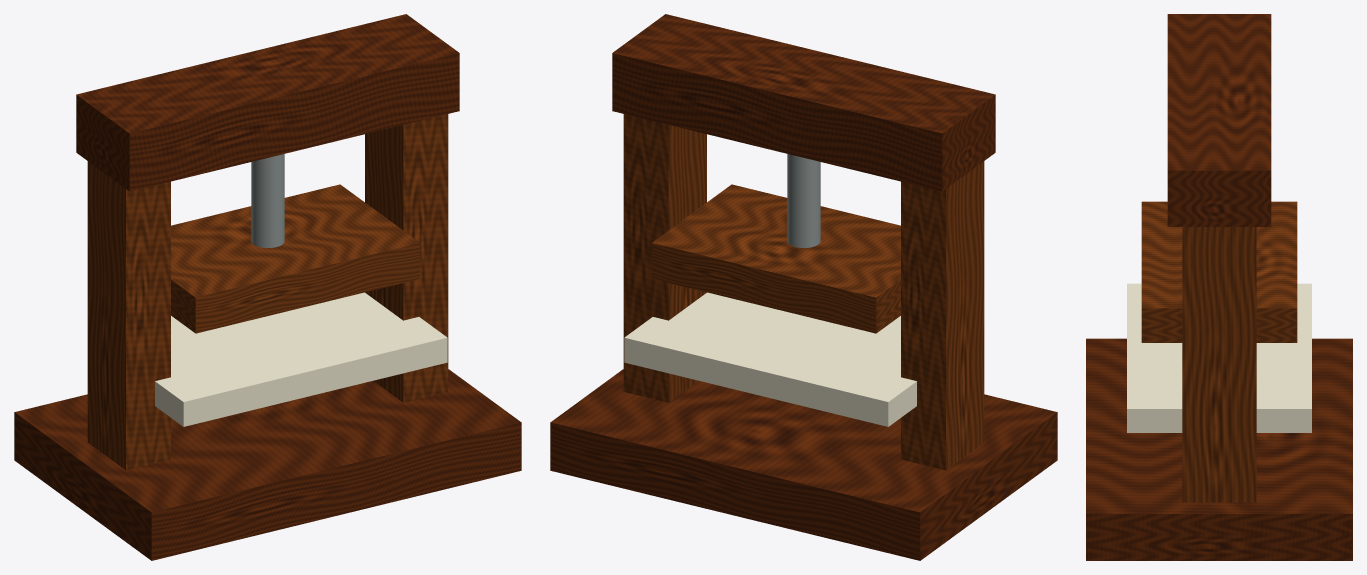
File: press.glb
3 views of the same model, side by side, from view 1: azimuth 30°, elevation 25°; view 2: azimuth 150°, elevation 25°; view 3: azimuth 270°, elevation 25° (orthographic). The views are drawn at different scales.
Size of the model in its own units: 2.8 by 2.83 by 1.8.
Materials: 4 (2 with a texture image).
